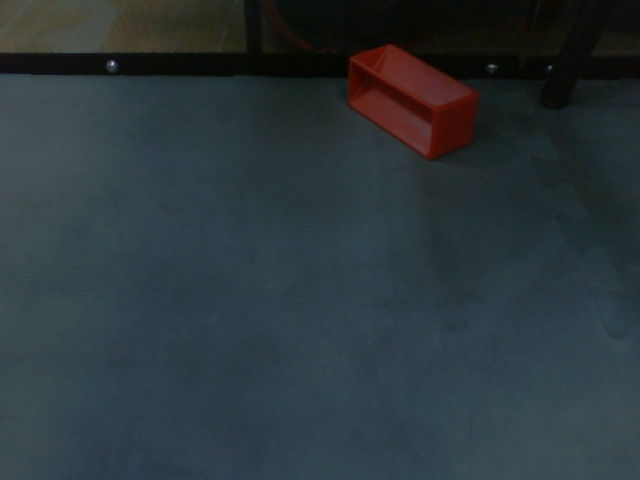RedSample: (345, 43, 479, 163)
